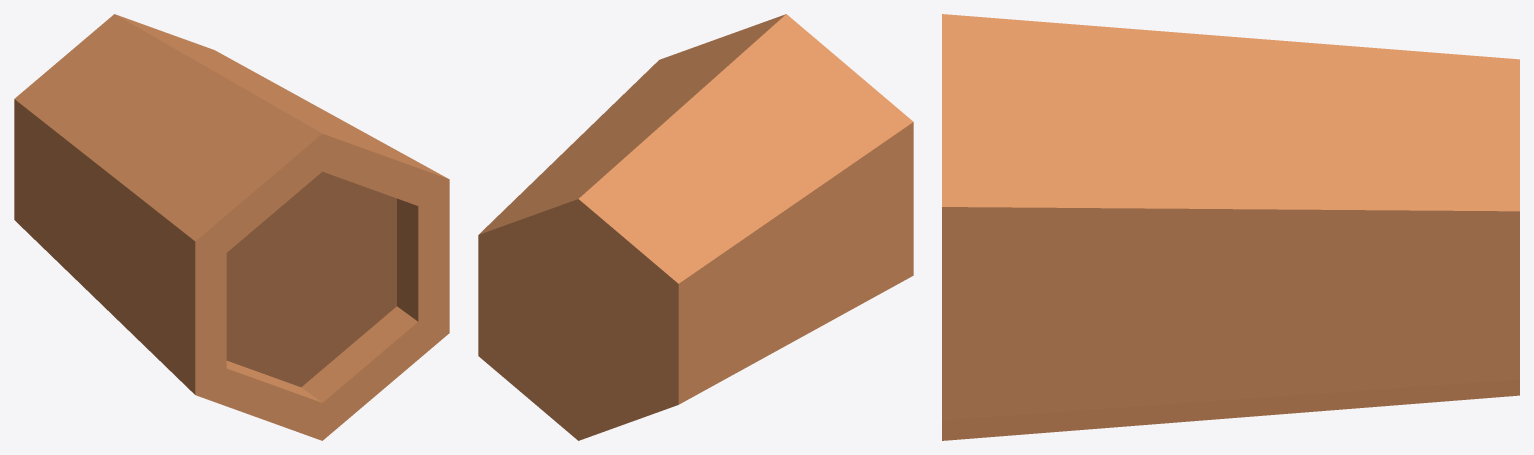
The model's file is pottedPlantPot.obj.
The picture shows the model from 3 angles, left to right: view 1: azimuth 30°, elevation 25°; view 2: azimuth 150°, elevation 25°; view 3: azimuth 270°, elevation 25°; orthographic projection. The views are drawn at different scales.
Parts seen in each view (by area): view 1: pottedPlant; view 2: pottedPlant; view 3: pottedPlant.
Boxes of the visible parts, x1,y1,x2,y2 form: pottedPlant: (14,14,449,440); pottedPlant: (478,14,913,440); pottedPlant: (942,14,1519,440).
Size of the model in its own units: 0.5805 by 0.6703 by 0.8223.
